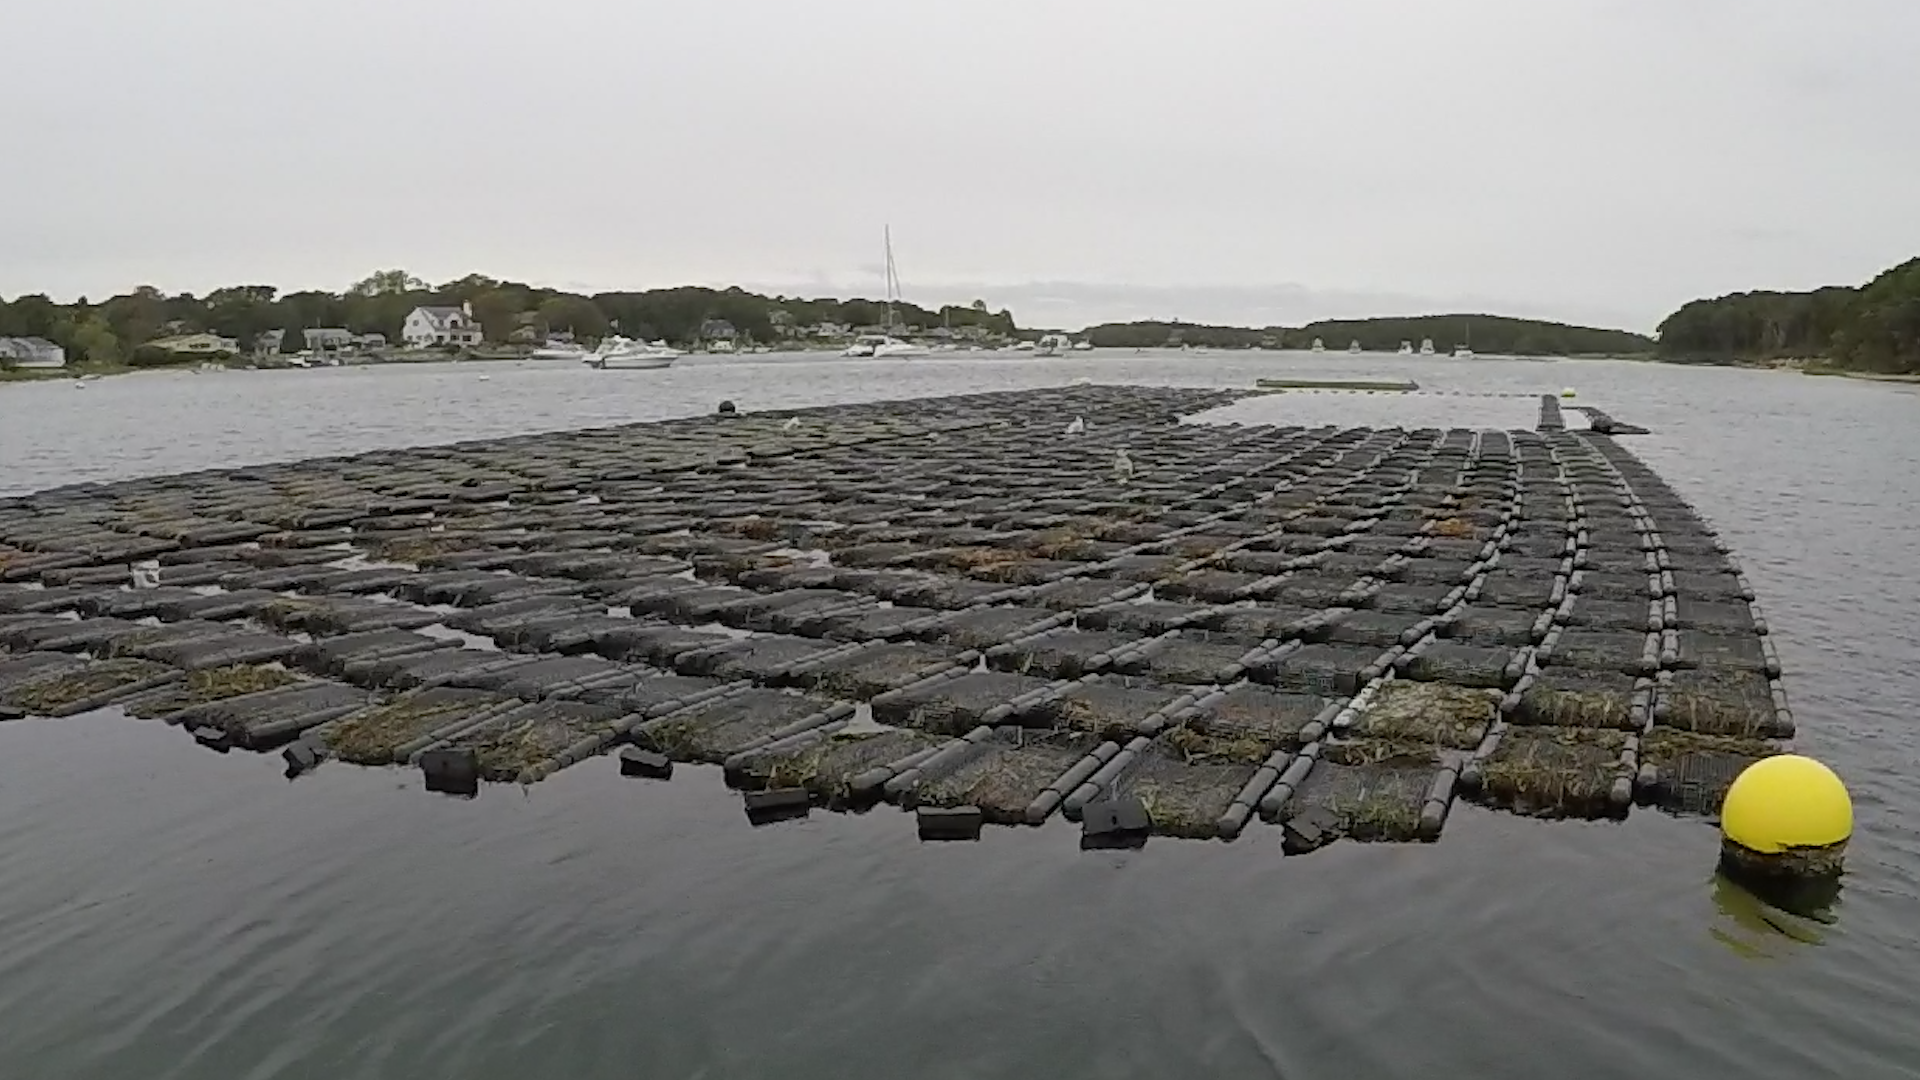bag: (886, 721, 1117, 825), (723, 713, 945, 820), (1065, 732, 1279, 836), (1263, 738, 1458, 837), (414, 704, 644, 782), (1461, 720, 1638, 818)
